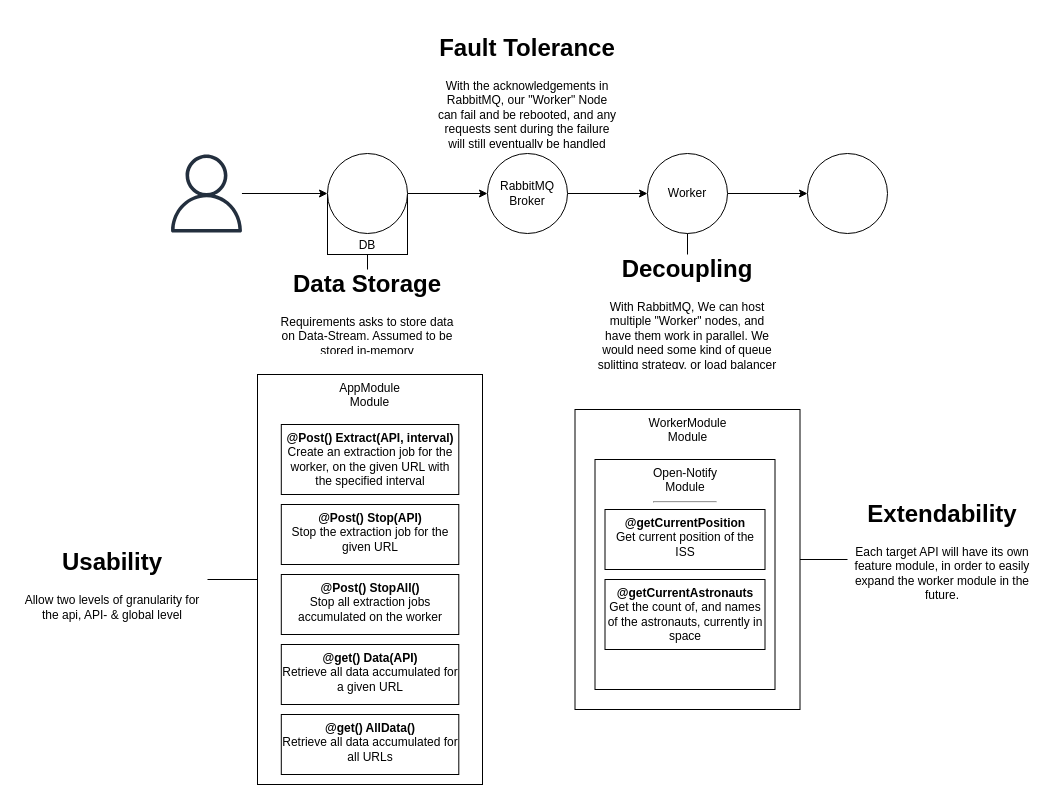
Image size: 1054x802. Some labels were removed from this diagram. The centre of each missing label's shape, as x and y in pixels:
Data-Stream API: pixel 367 193
External API: pixel 847 193
